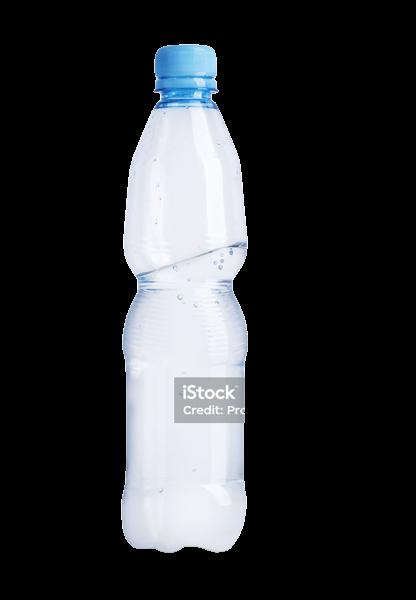Plastik: (114, 27, 262, 556)
